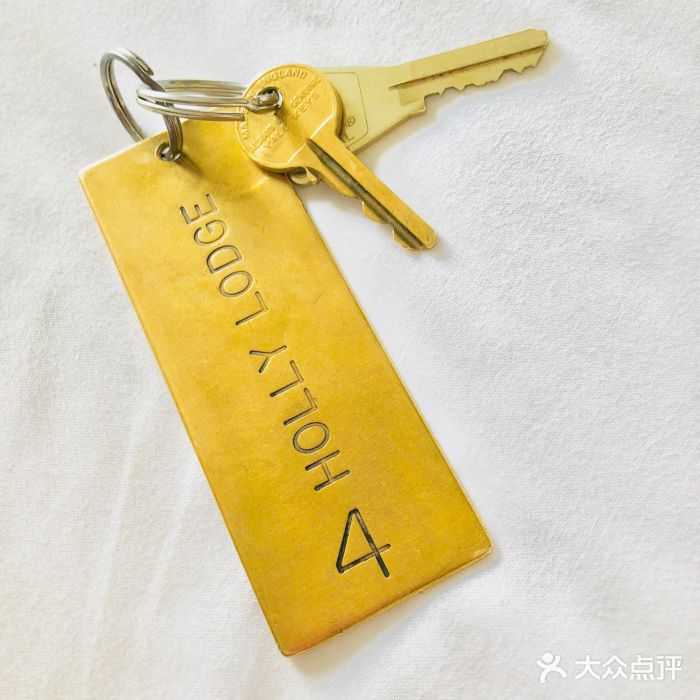key: (248, 26, 554, 172), (237, 59, 444, 261)
